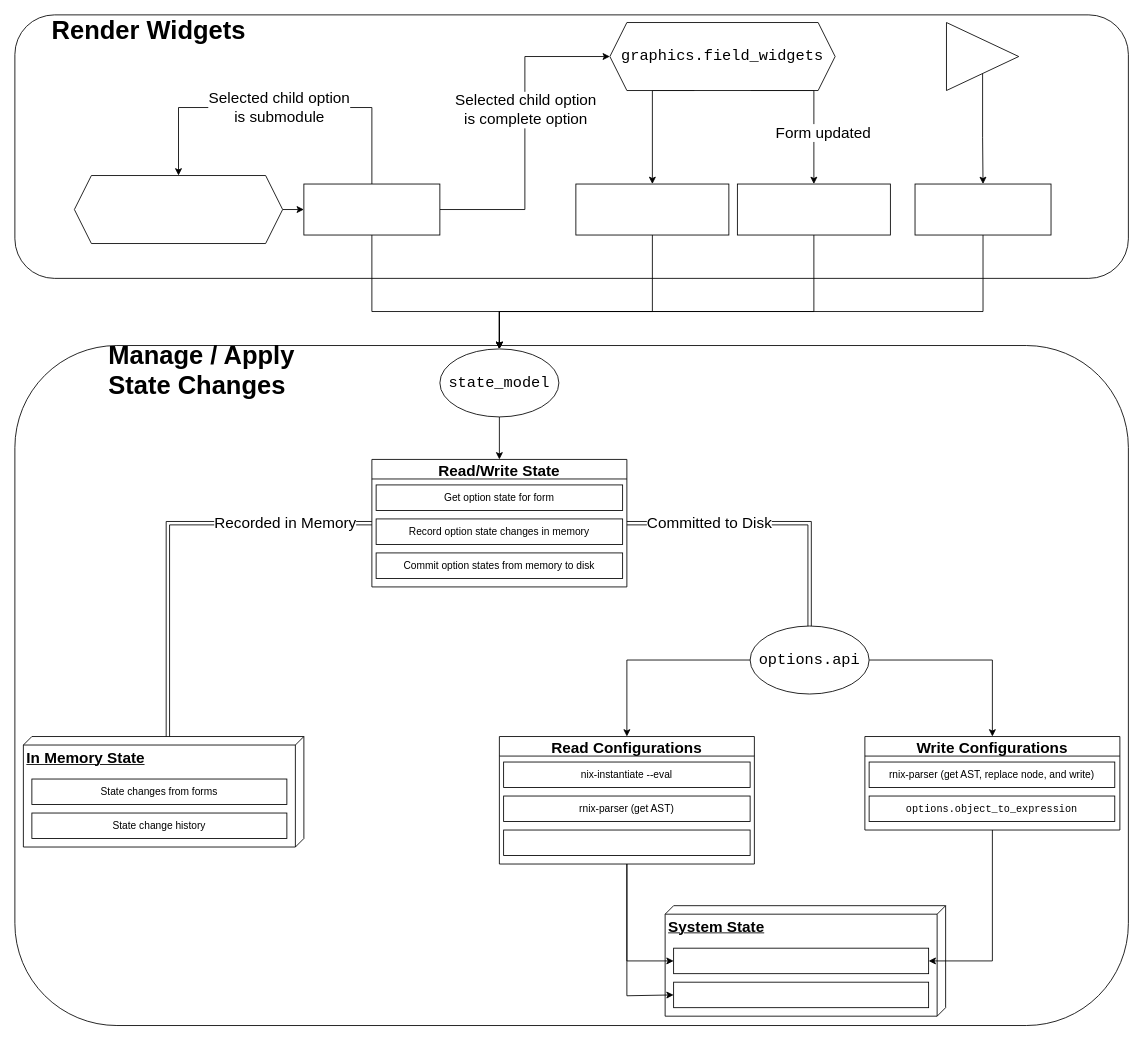
This 1143x1046 diagram has some shape labels left out. Each missing label, with the centre of its shape:
"<nixpkgs/nixos>" belongs at pixel 801 994.
"configuration.nix and imports" belongs at pixel 801 960.
"Get child options, render in list" belongs at pixel 371 209.
"Get option type, render appropriate widget" belongs at pixel 652 209.
"graphics.nav_widgets" belongs at pixel 178 209.
"rnix-lsp" belongs at pixel 626 842.
"Save" belongs at pixel 982 56.
"Send updated value" belongs at pixel 813 209.
"Tell backend to commit in-memory changes to disk" belongs at pixel 982 209.
